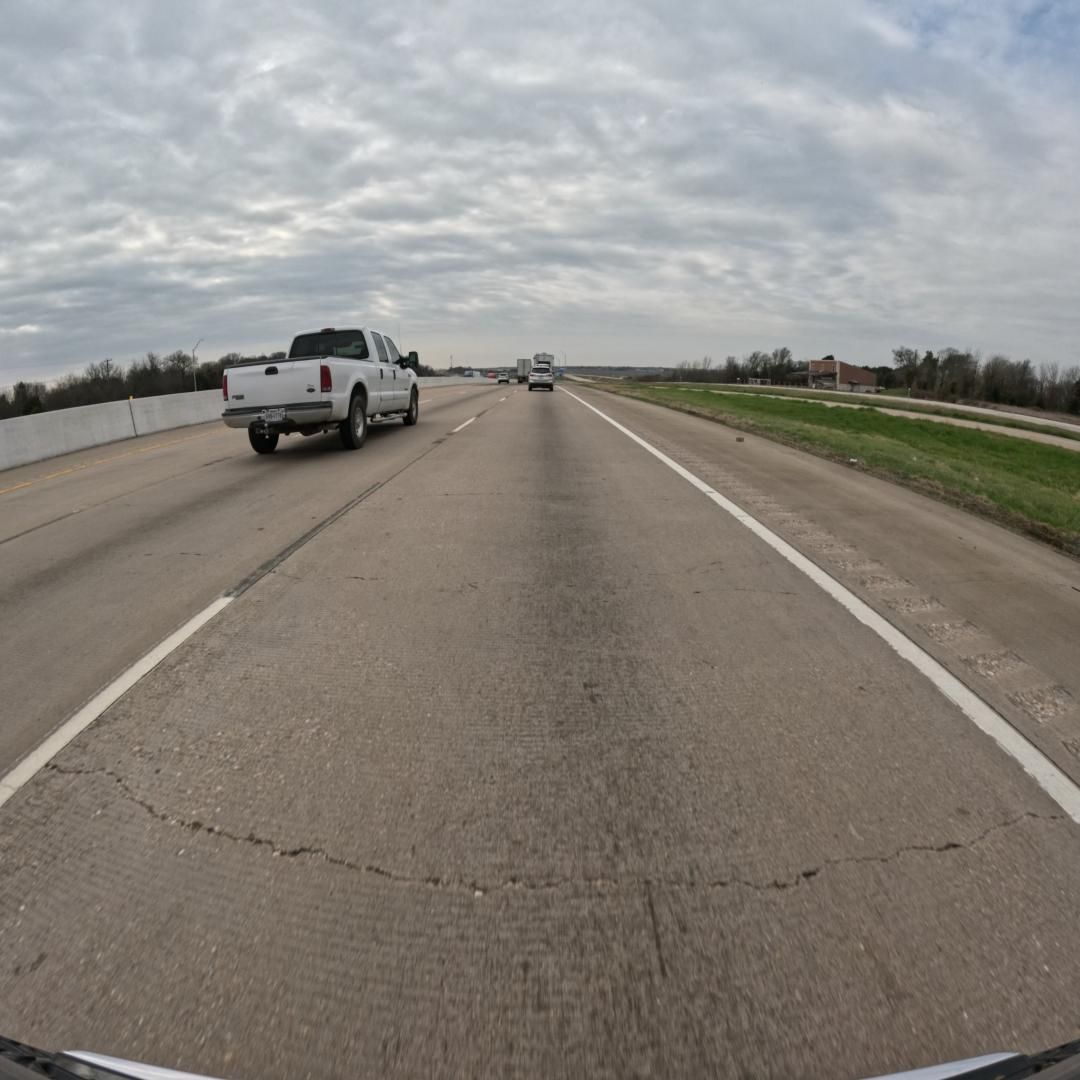lane0: (0, 390, 1080, 1080)
lane1: (0, 387, 515, 805)
